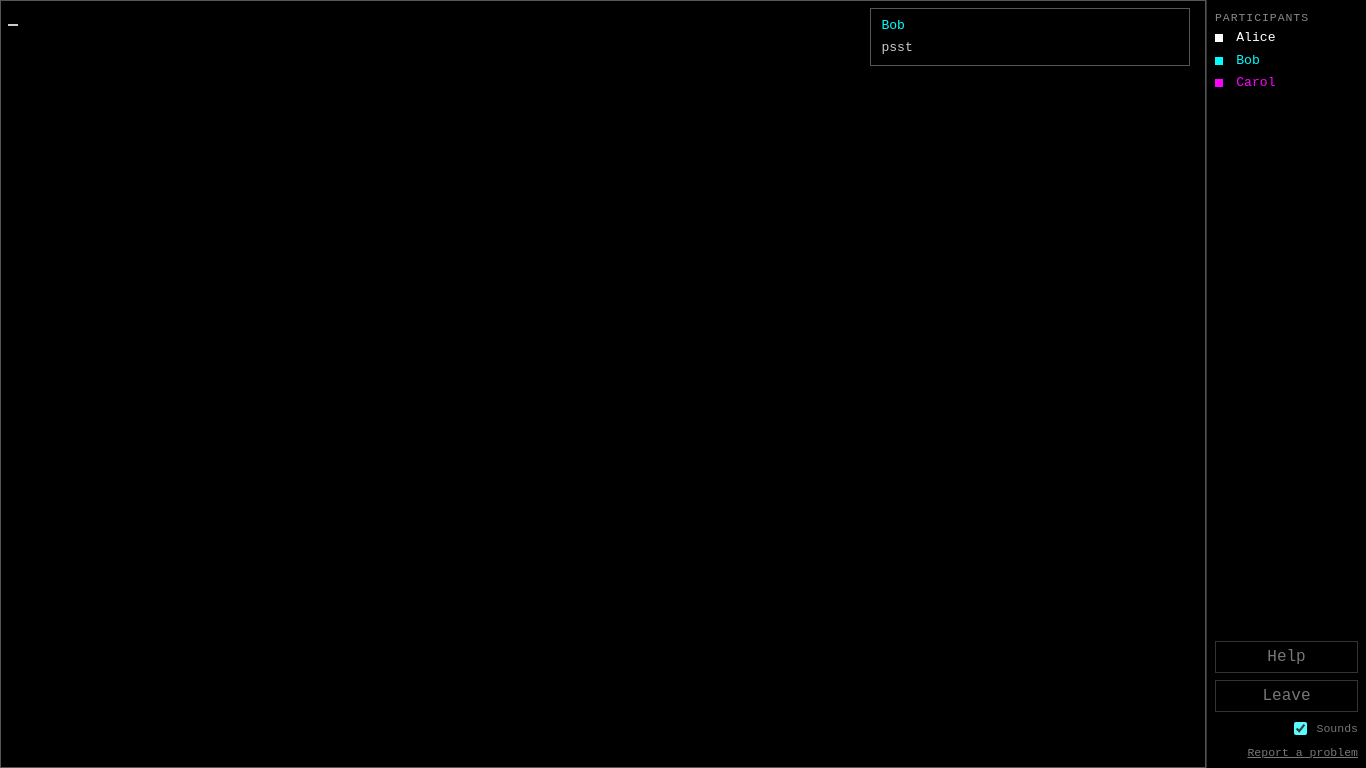
Test: Receiving a private message › Escape with the help dialog open closes the help and leaves the popups alone
Expected: the text "Carol" is shown, [1236,72,1276,94]
Expected: the text "psst" is shown, [881,40,913,55]
Click the button "Help": [1286, 657] box [1215,641,1358,673]
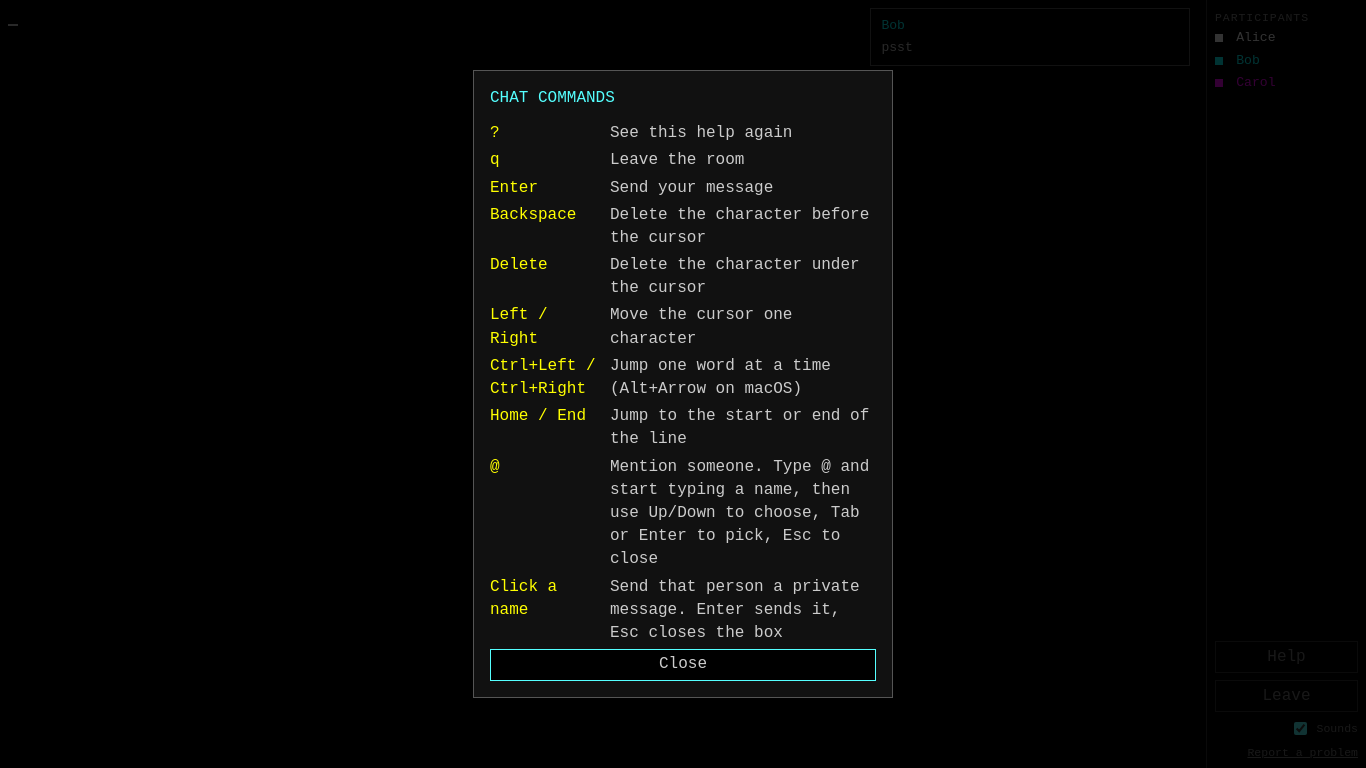
Result: the dialog "help" is shown at [473,70,893,698]
Click the element with class "help-overlay": [82, 384] box [0,0,1365,767]
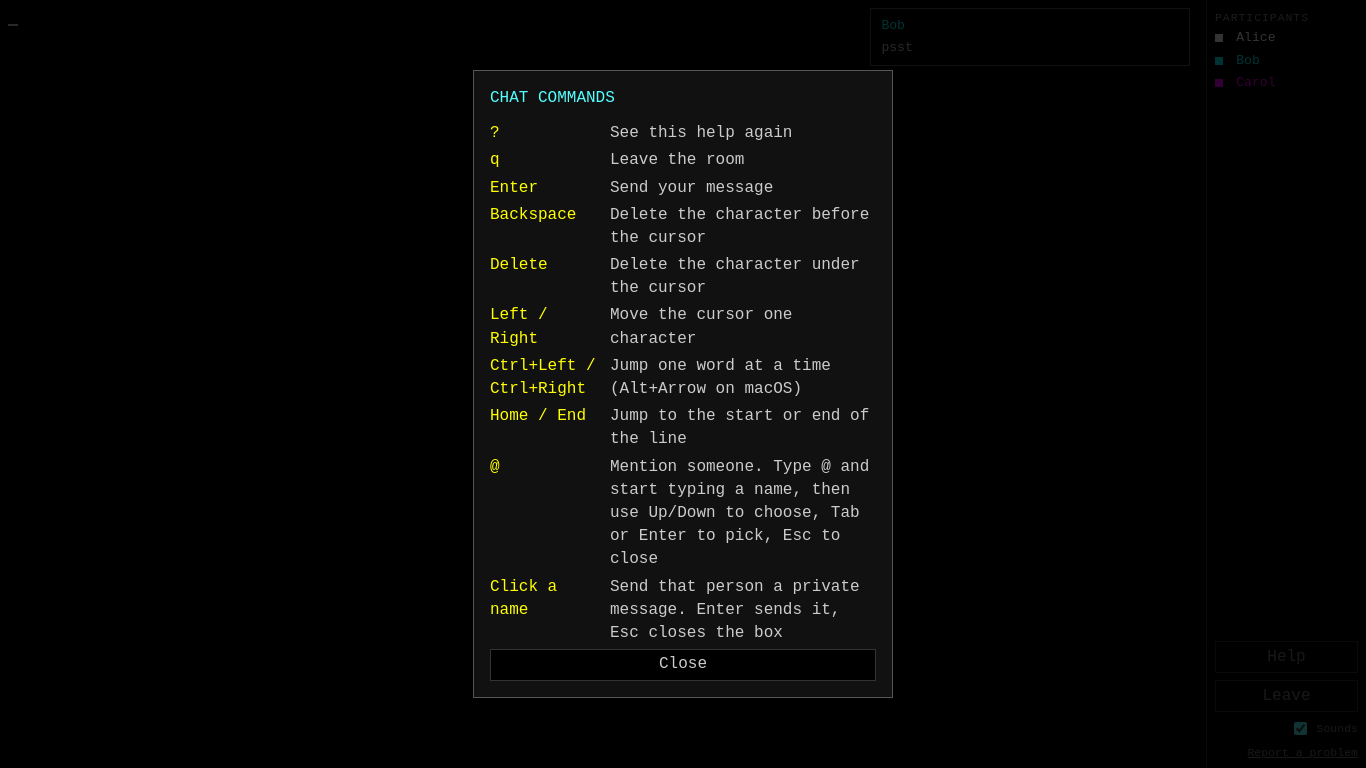
Press Escape
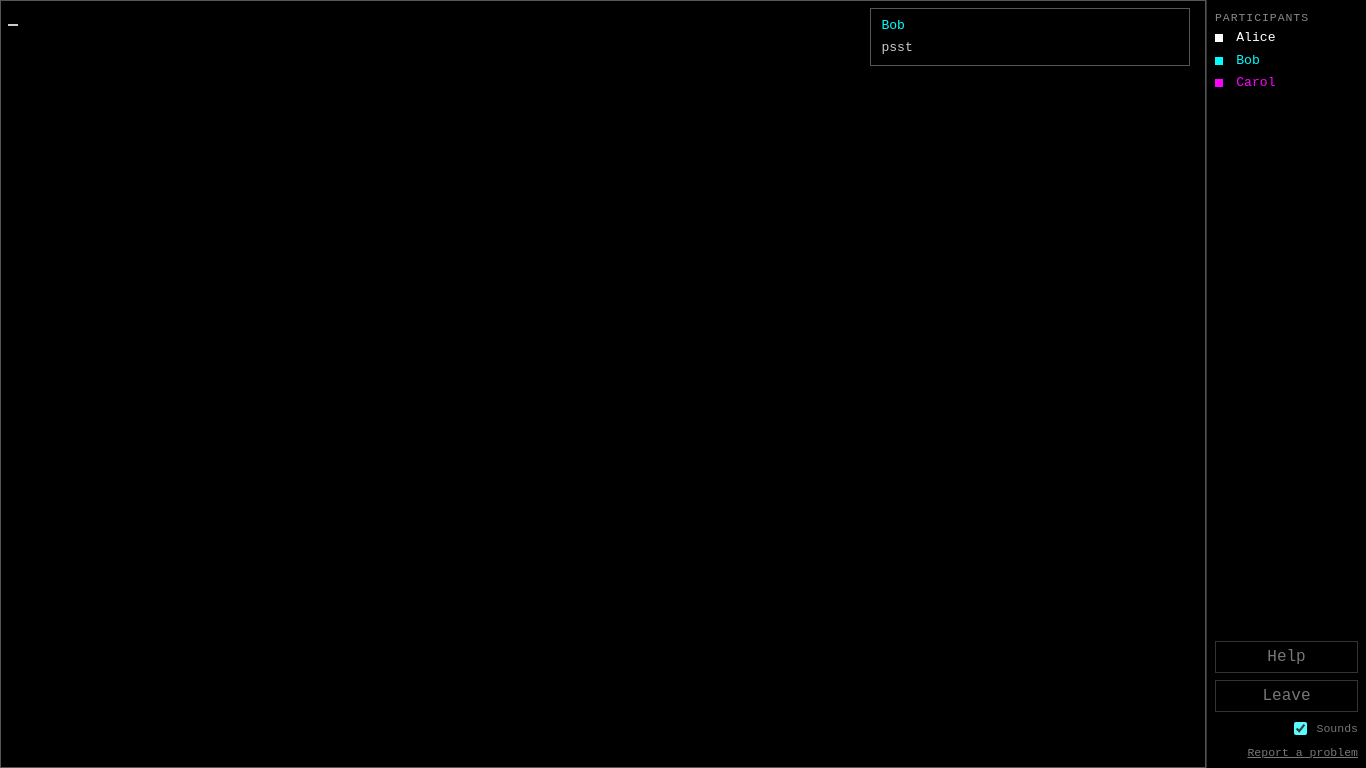
Expected: the text "psst" is shown, [881,40,913,55]
Result: the dialog is gone
